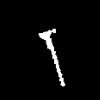half_double_crochet: (39, 29, 64, 85)
